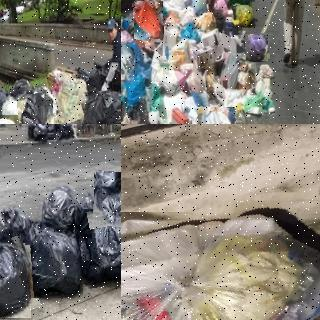Garbage: (121, 189, 320, 320), (25, 225, 82, 298), (77, 207, 121, 287), (0, 239, 36, 320), (39, 184, 84, 233), (93, 171, 121, 227), (81, 90, 121, 124), (133, 1, 164, 40), (17, 93, 54, 124), (245, 33, 269, 62), (197, 106, 235, 124), (121, 43, 134, 82), (234, 2, 252, 27)
